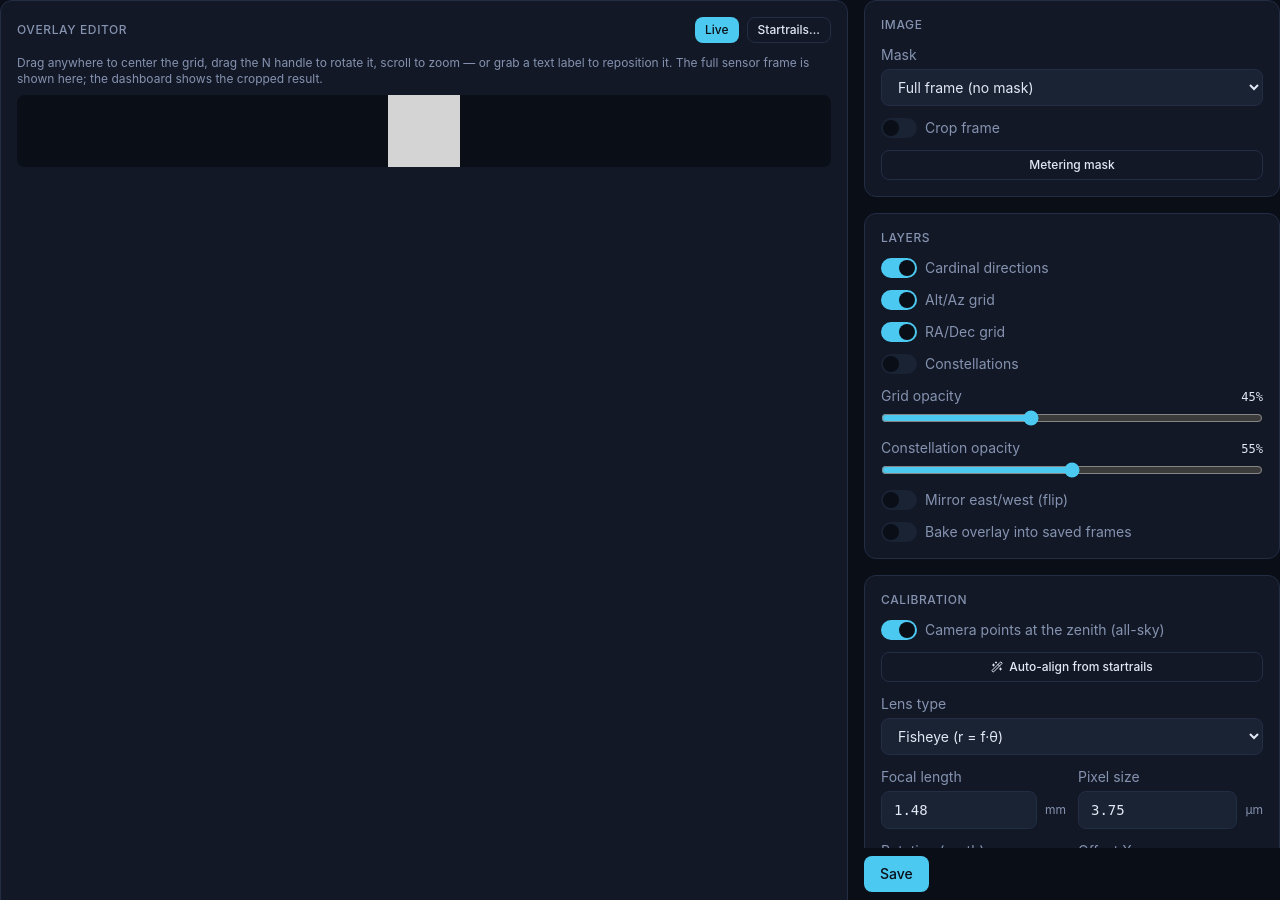
Test case: OverlayEditorPage startrails background › lists only nights with a ready startrails in the picker
The width and height of the screenshot is (1280, 900).
Click the button "Startrails…" at (789,30), box left=746, top=17, right=831, bottom=43
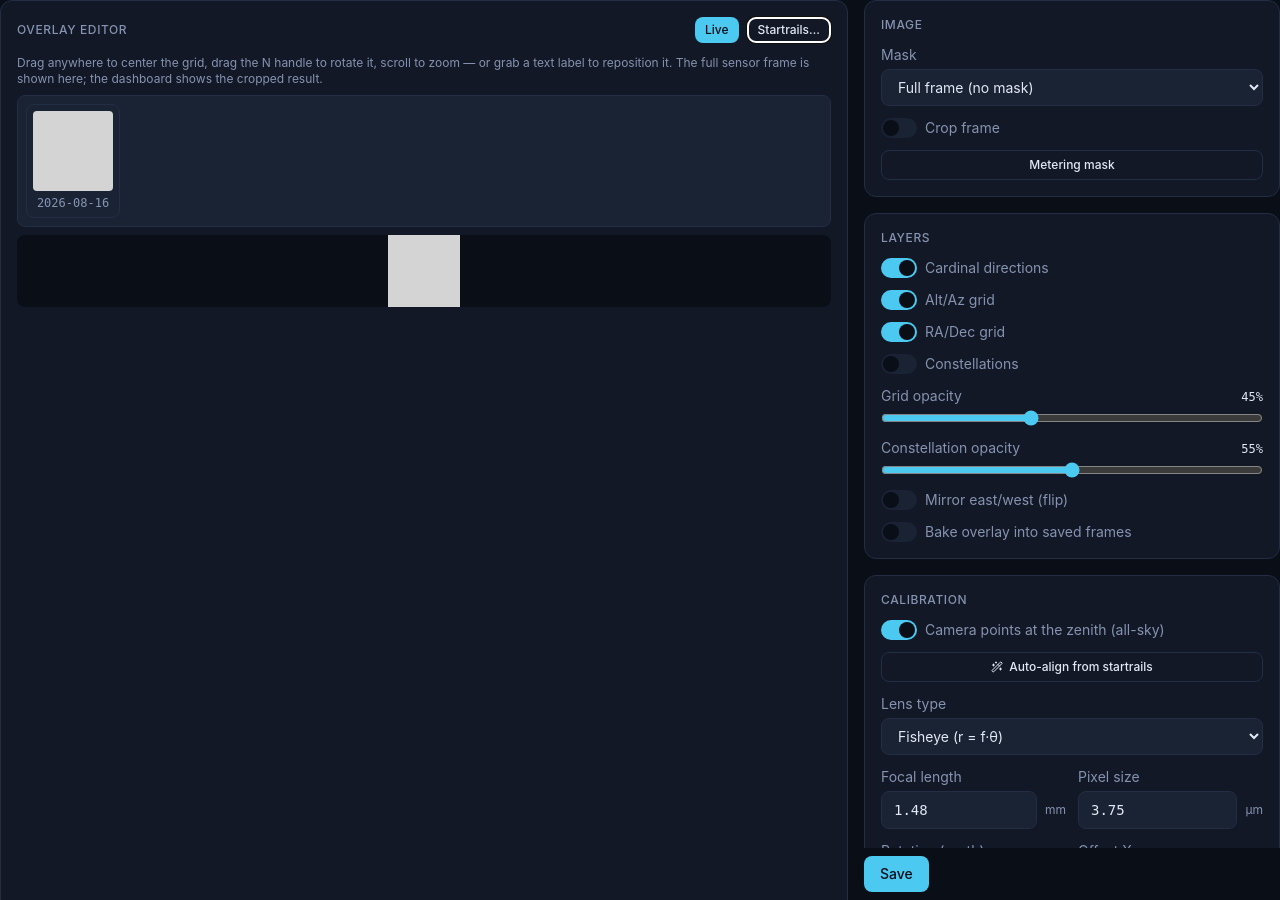
Result: the text "2026-08-16" is shown at left=37, top=195, right=109, bottom=211
